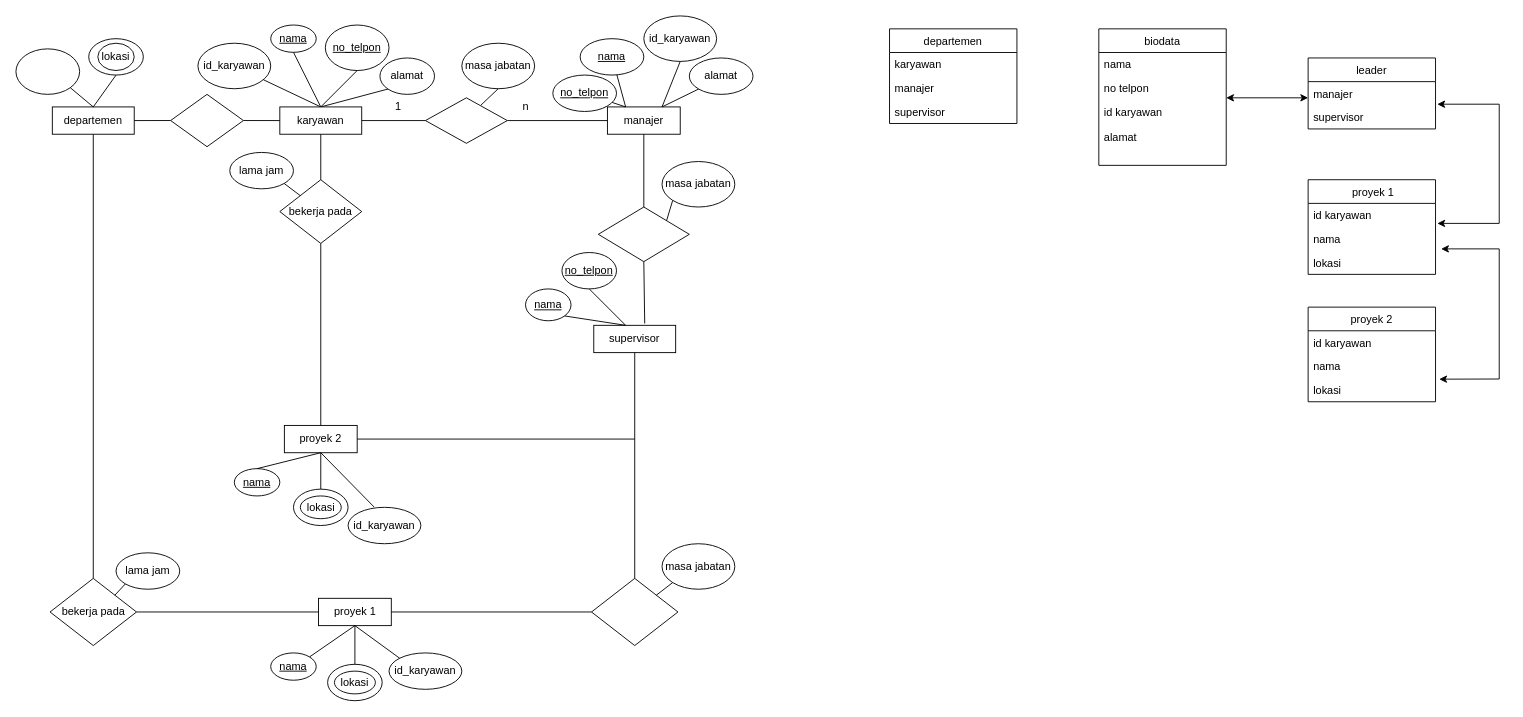
Image size: 1523x717. Some labels were removed from this diagram. Here are the shapes that lost their labels. From the top down, the centre of each, then its label:
the point at 47,71: nama_dept
the point at 206,120: memiliki
the point at 466,120: dipimpin oleh
the point at 643,234: memiliki atasan
the point at 634,611: pemimpin
